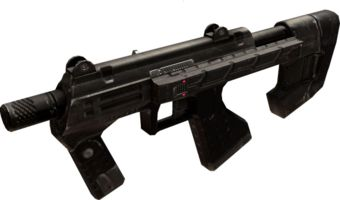rifle: (4, 13, 335, 190)
